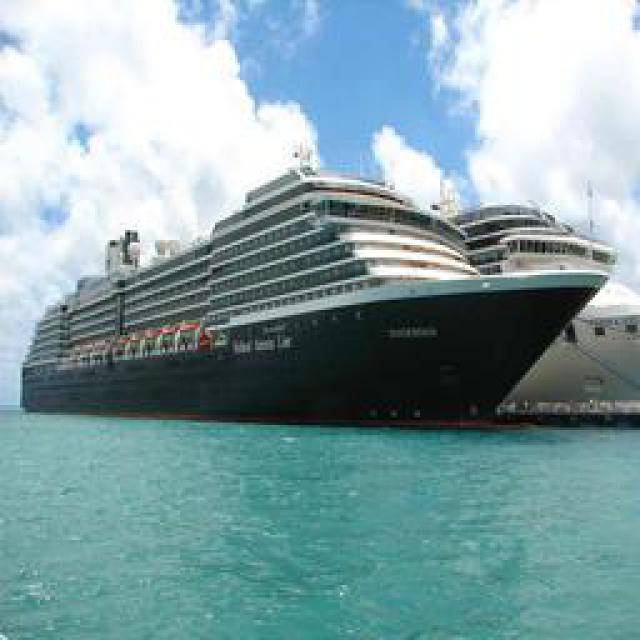Ship: (30, 166, 615, 421)
